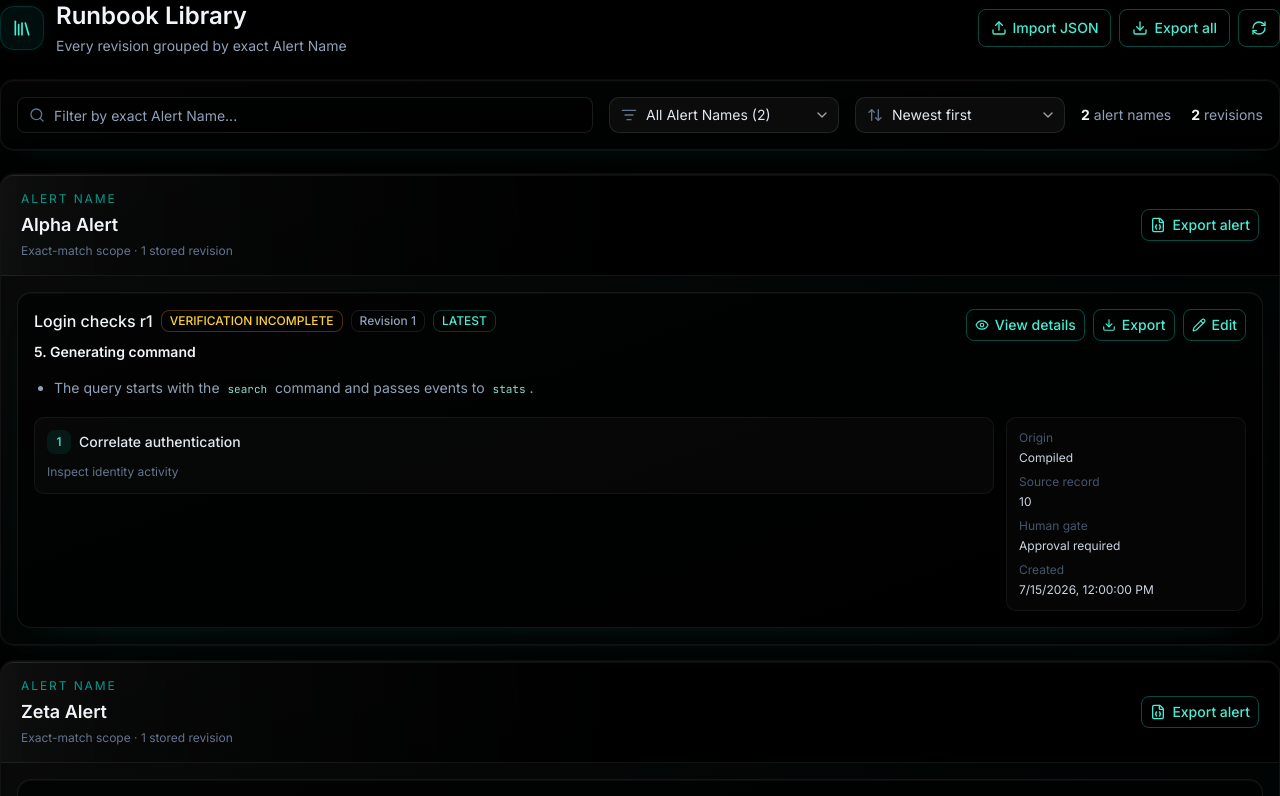
Test: RunbookLibraryContent › lists every Alert Name and filters to the exact selected alert
Expected: the heading "Alpha Alert" is shown, [21, 214, 118, 235]
Click the dropdown named "Select Alert Name" at point(724, 115), box [609, 97, 839, 133]
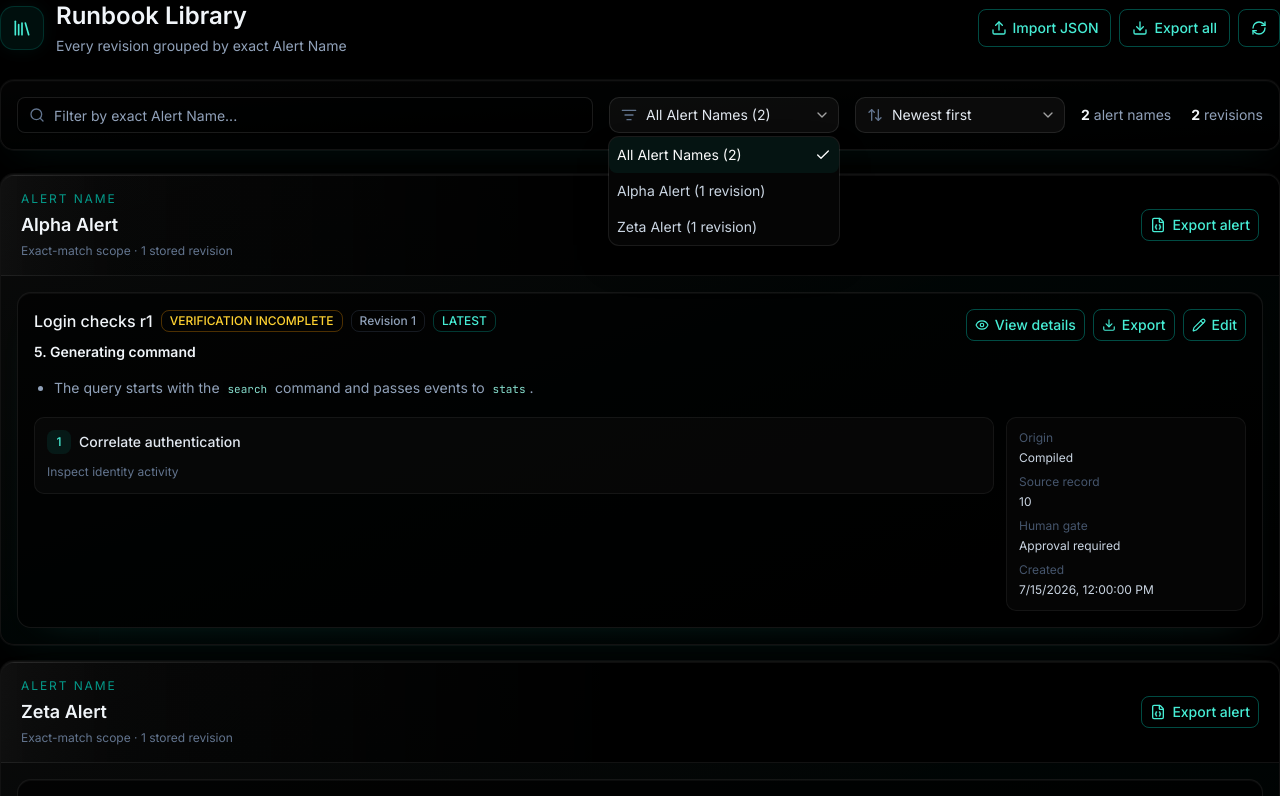
Now the option "All Alert Names (2)" is shown, box [609, 137, 839, 173]
Now the option "Alpha Alert (1 revision)" is shown, box [617, 182, 765, 199]
Now the option "Zeta Alert (1 revision)" is shown
Click the option "Zeta Alert (1 revision)" at point(687, 226), box [617, 218, 757, 235]
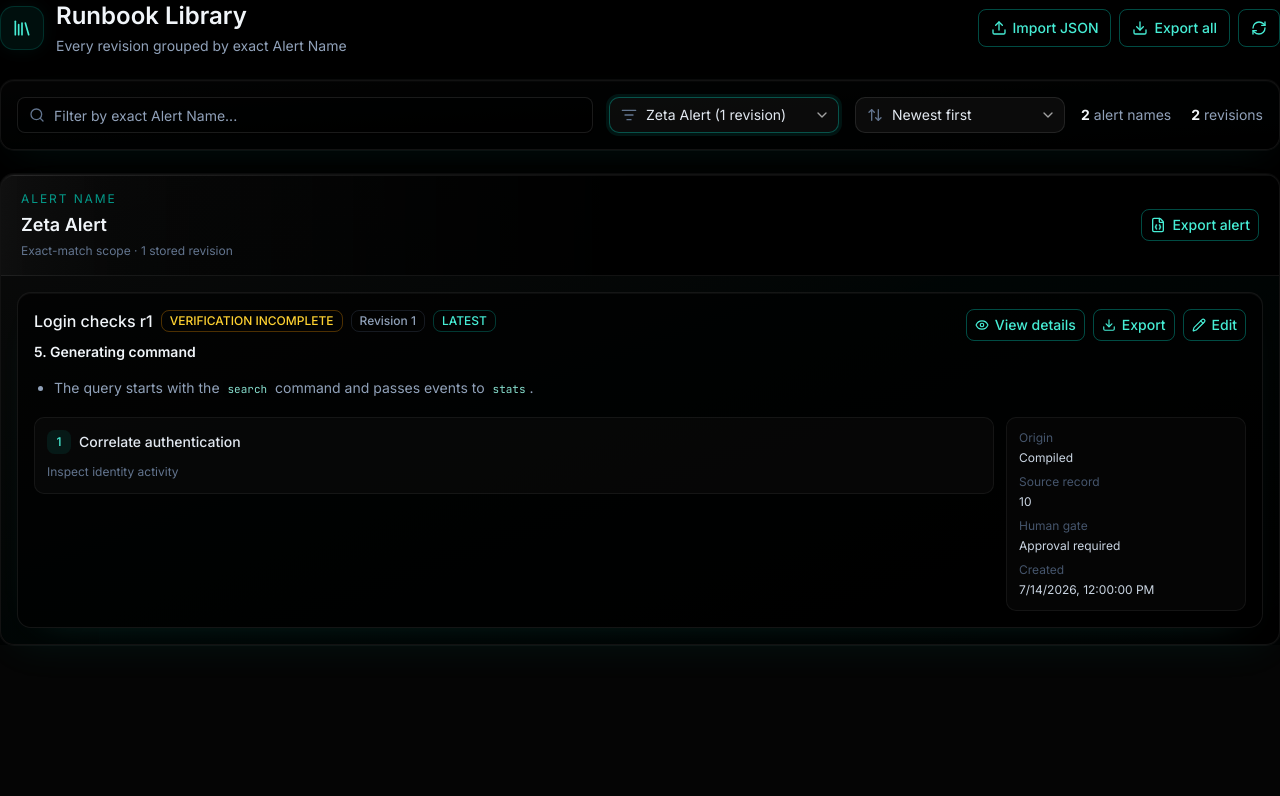
Expected: the heading "Zeta Alert" is shown, [21, 214, 107, 235]
Now the heading "Alpha Alert" is gone
